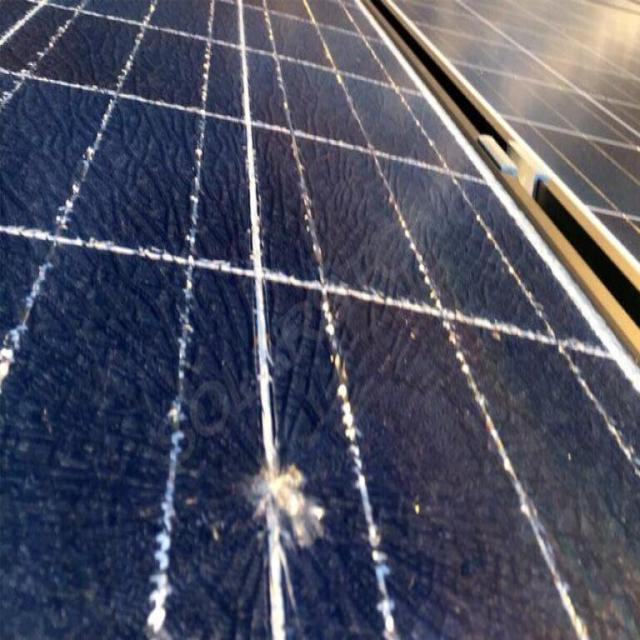Physical-damage: (0, 1, 640, 640), (232, 446, 332, 555)
